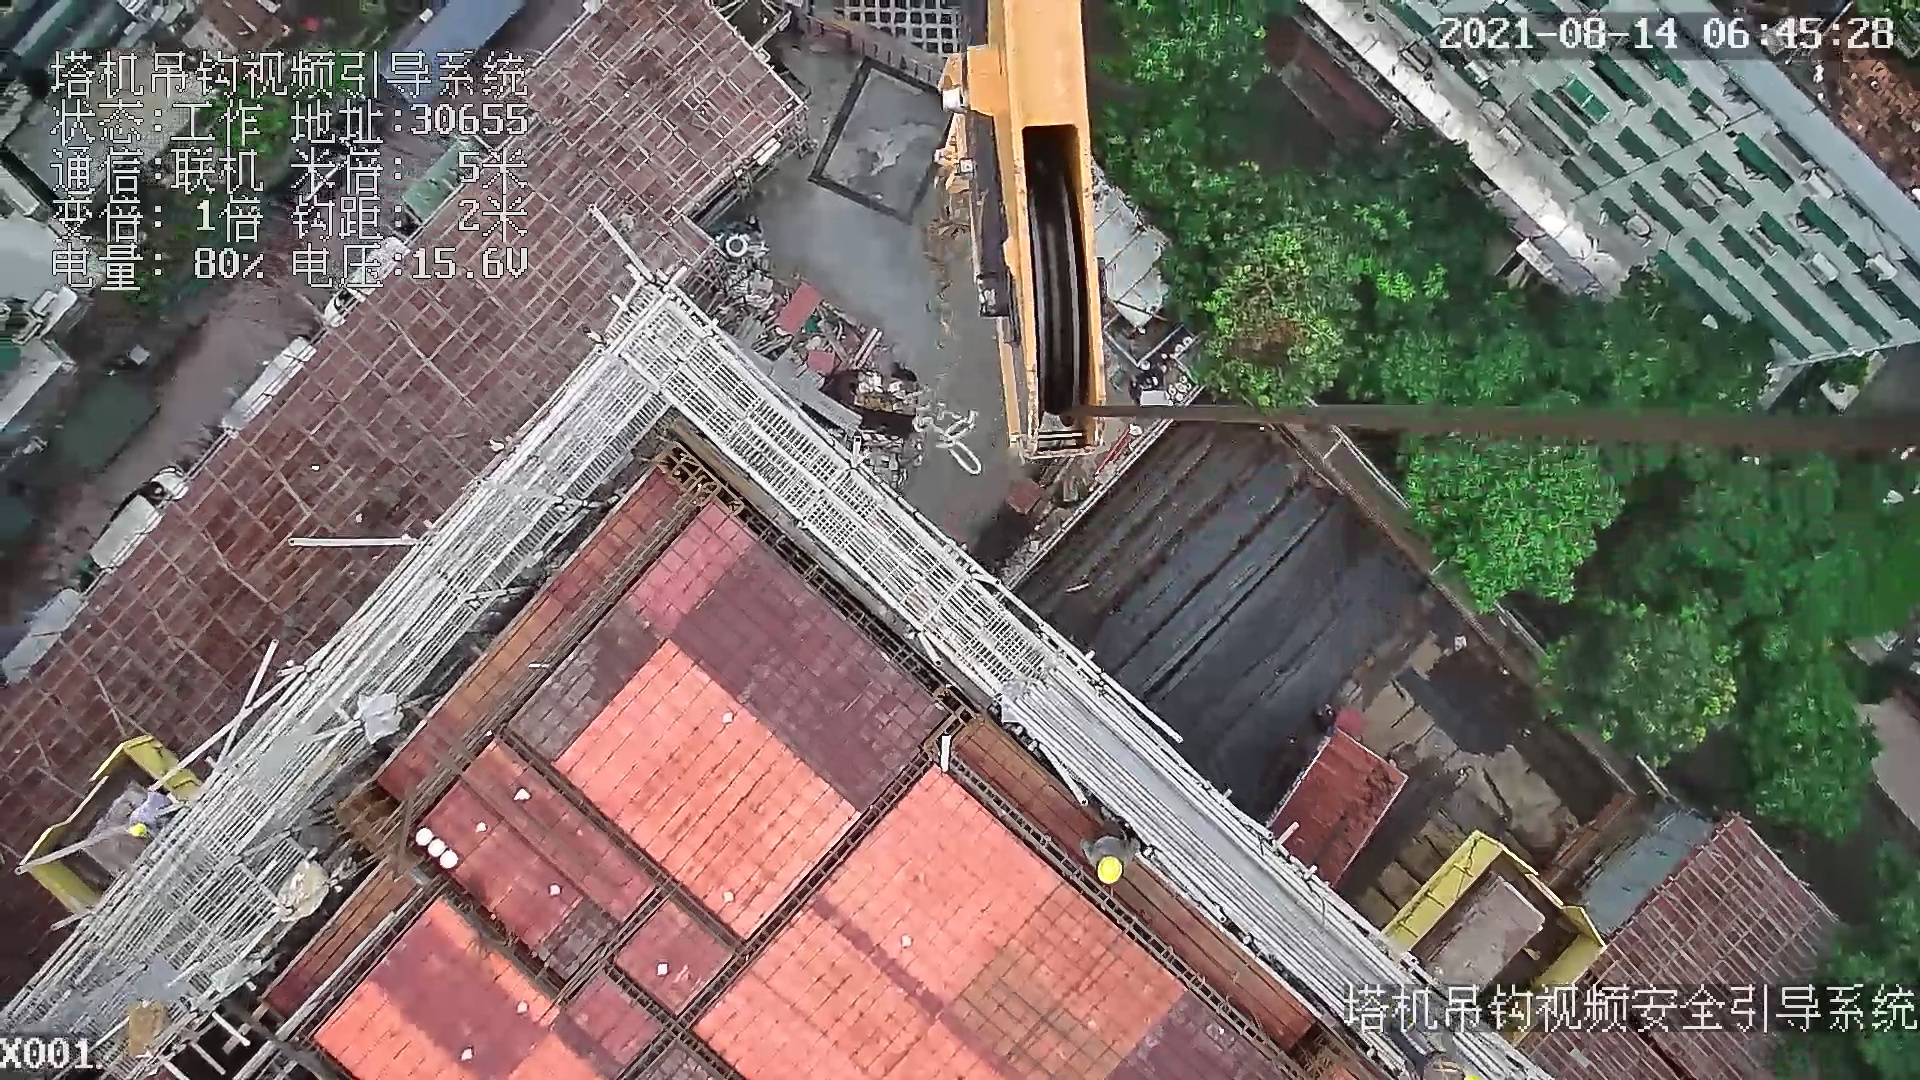board: (1415, 860, 1545, 997)
helmet: (1097, 853, 1121, 887), (130, 823, 150, 840)
hook: (906, 1, 1110, 455)
person: (1069, 813, 1150, 886), (127, 792, 173, 844)
